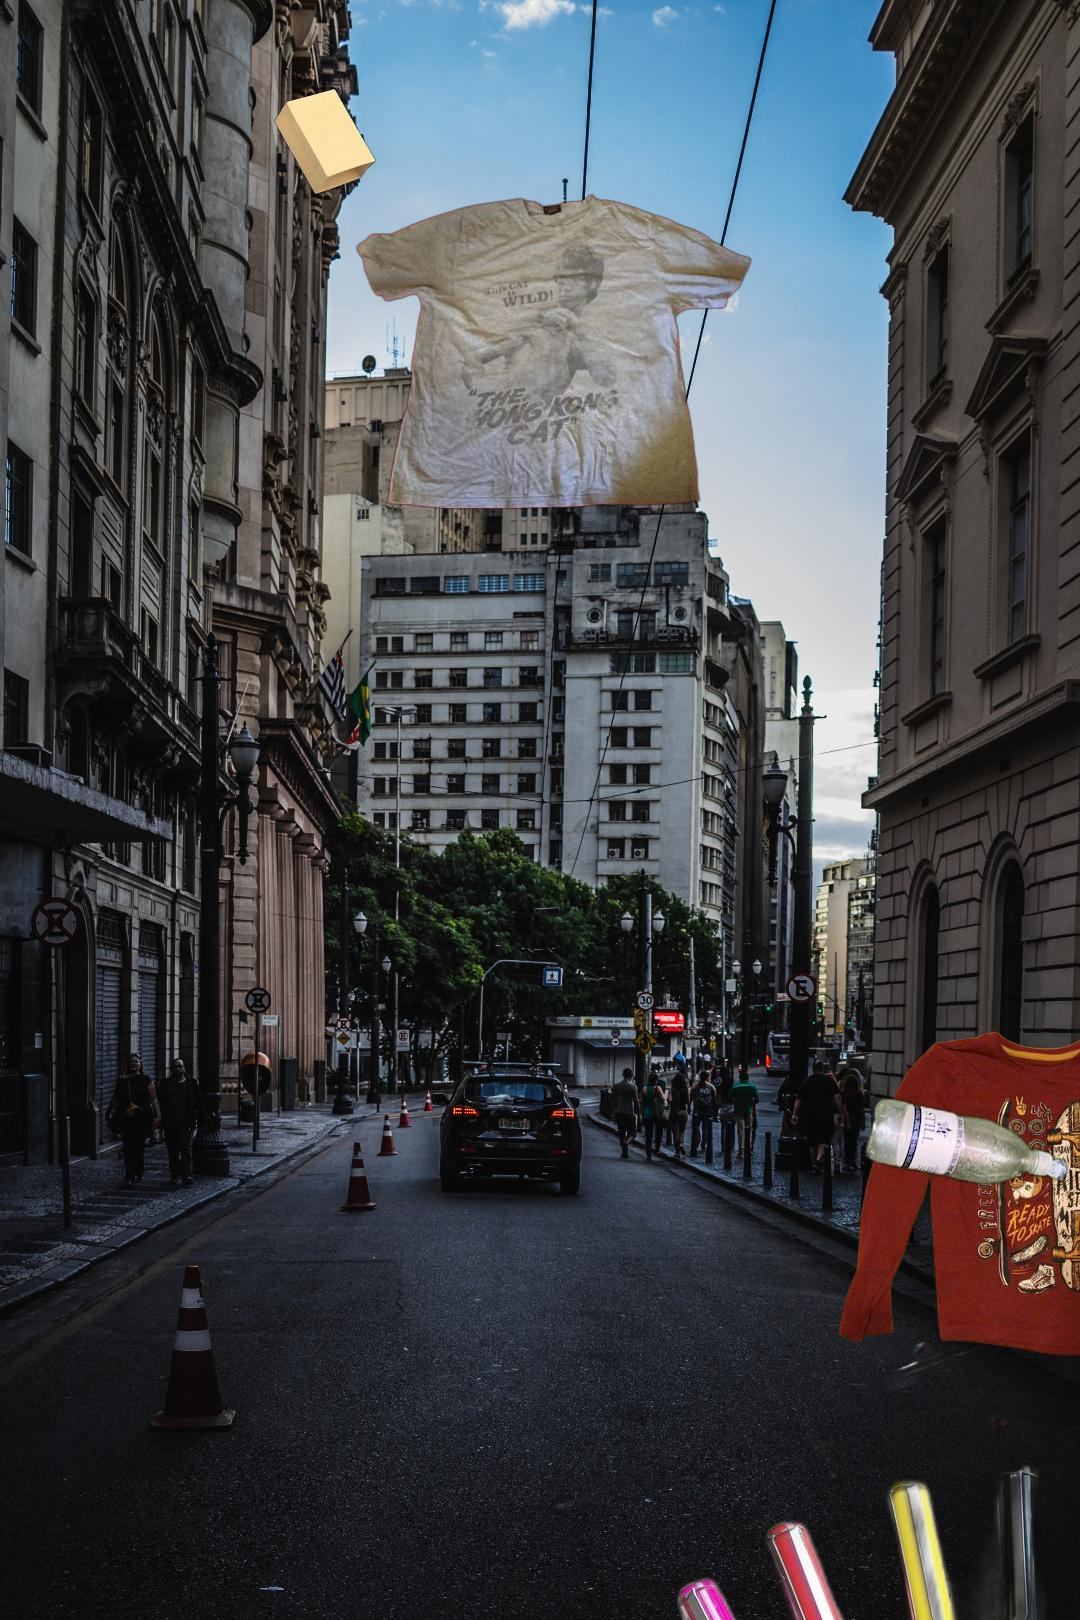clothes: (352, 121, 808, 521), (835, 1027, 1080, 1363)
paper: (542, 1270, 1053, 1620)
paper-bag: (271, 86, 378, 195)
penholder: (670, 1275, 1080, 1620)
plastic-bottles: (861, 1092, 1072, 1191)
